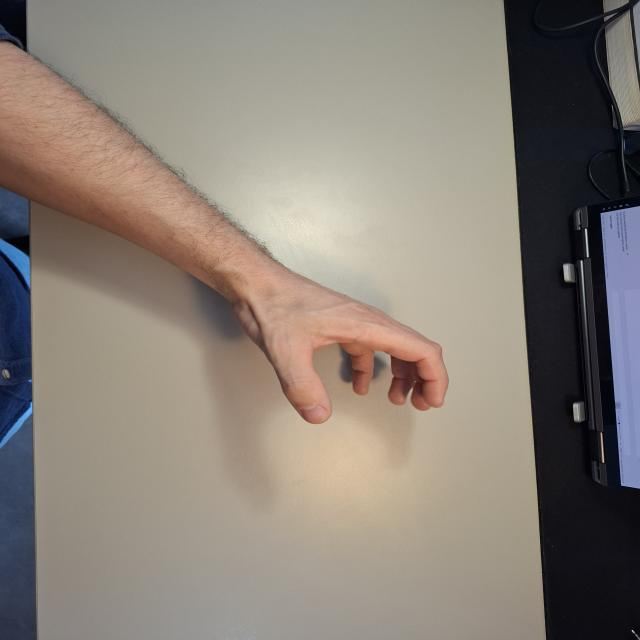glove_off: (227, 266, 452, 426)
